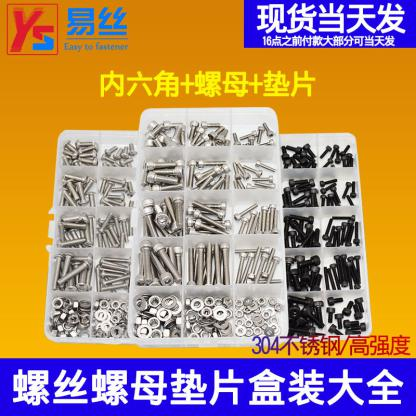FOD: (152, 242, 182, 284), (55, 260, 91, 286), (193, 218, 230, 236), (138, 240, 152, 284), (233, 202, 259, 222), (248, 244, 262, 281), (220, 242, 232, 284), (146, 171, 180, 185), (195, 242, 205, 285), (142, 159, 177, 171), (235, 252, 248, 284), (186, 247, 196, 288), (98, 211, 114, 234), (64, 178, 78, 201), (254, 160, 276, 174), (299, 254, 321, 268), (187, 158, 197, 188), (341, 180, 352, 200), (342, 300, 354, 316), (103, 181, 114, 198), (326, 306, 336, 324), (232, 161, 241, 181), (104, 144, 118, 156), (320, 145, 332, 159), (280, 144, 290, 160), (80, 157, 99, 165), (290, 230, 298, 247)
